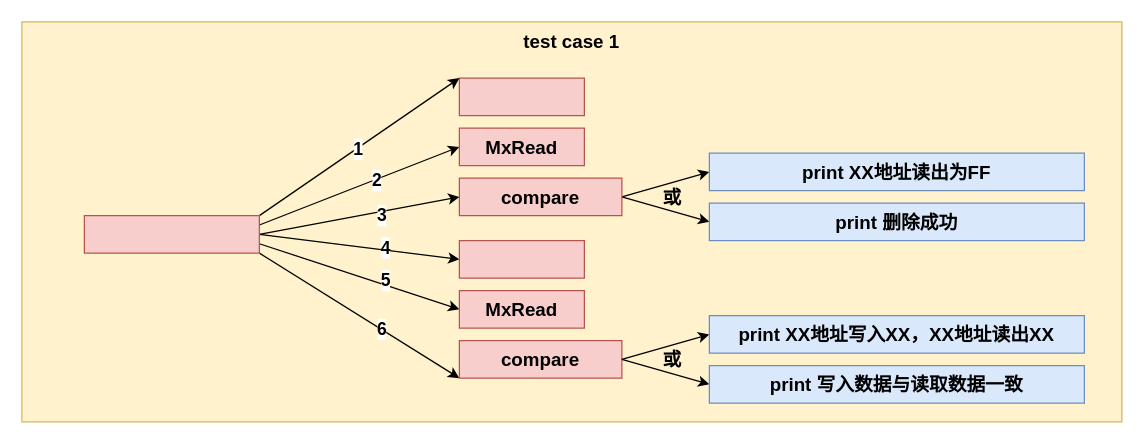
This 1144x444 diagram has some shape labels left out. Here are the shapes that lost their labels. From the top down, the centre of each, then its label:
the point at 521,96: MxErase
the point at 171,233: MxUserTest_RWE
the point at 521,258: MxWrite
